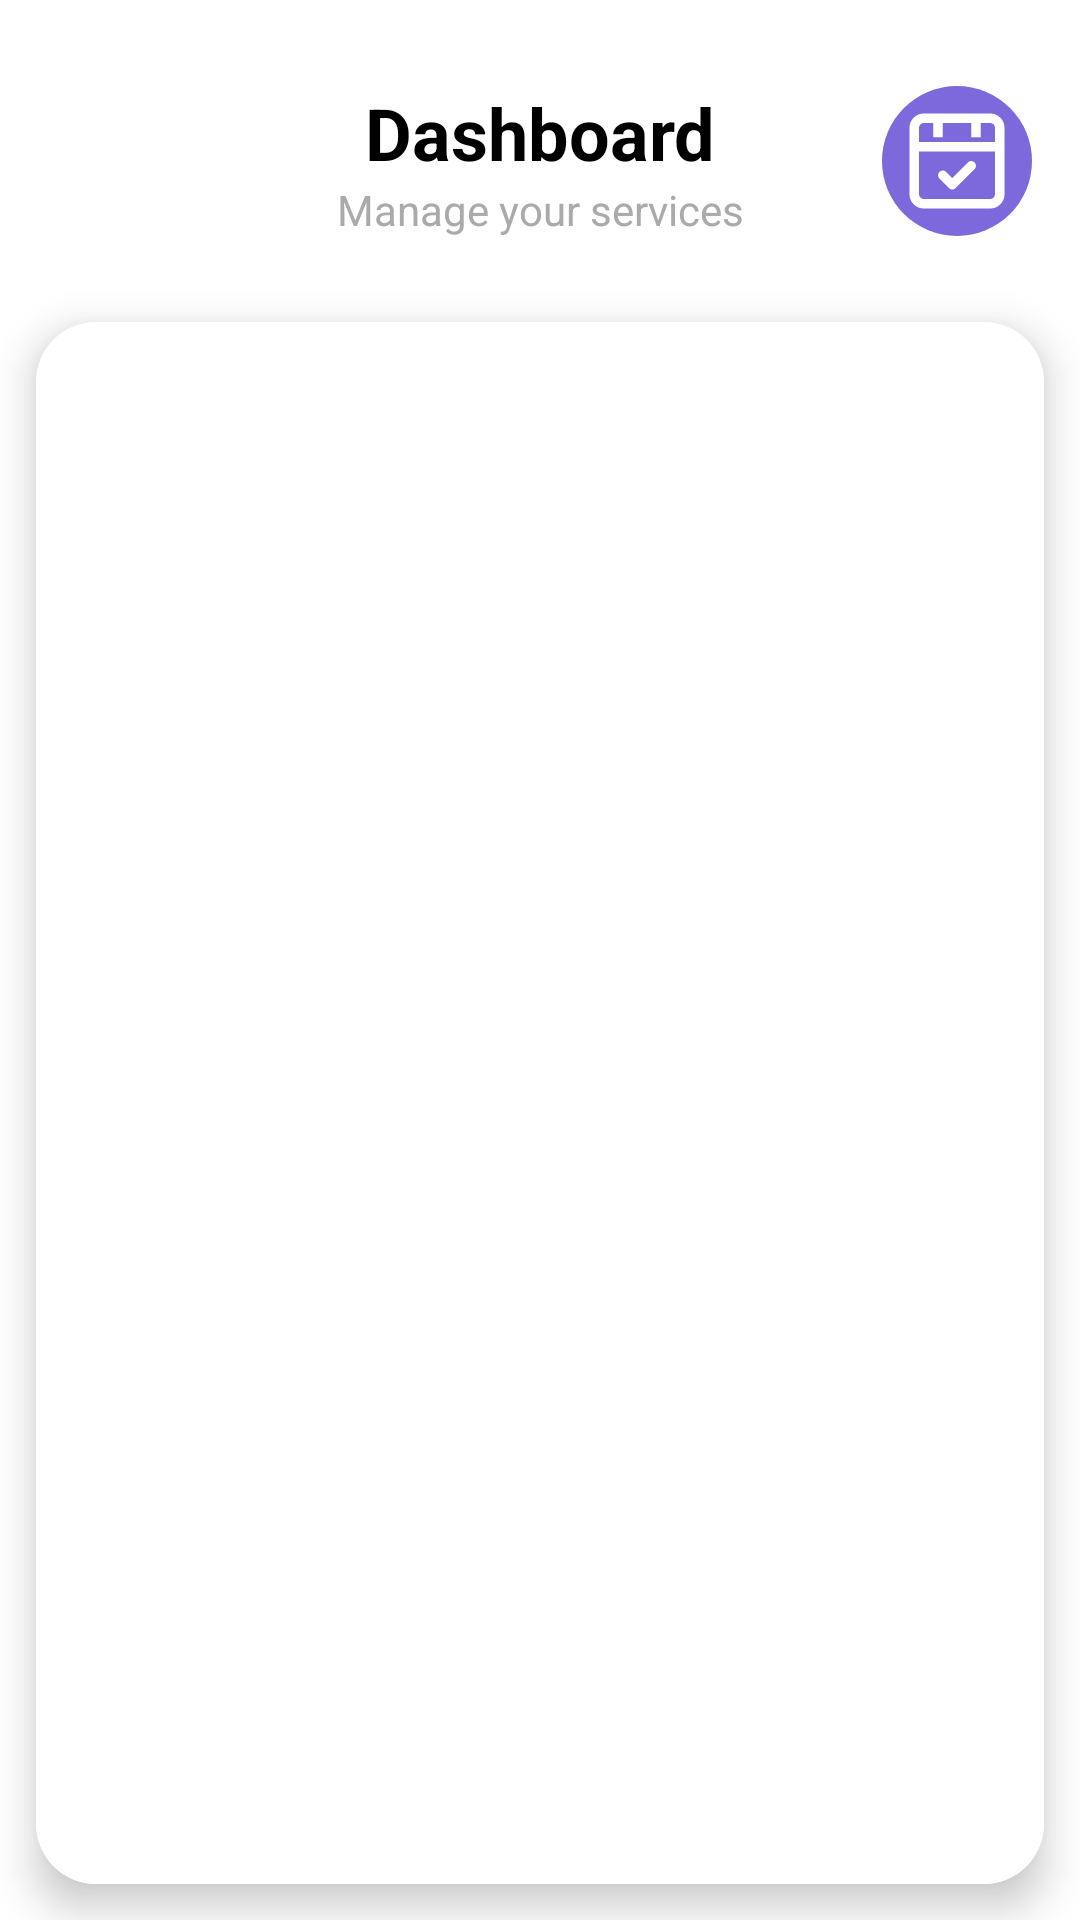

Where to tap for icons on this 1080×1920 app screen, as (x,y):
booking: (957,161)
